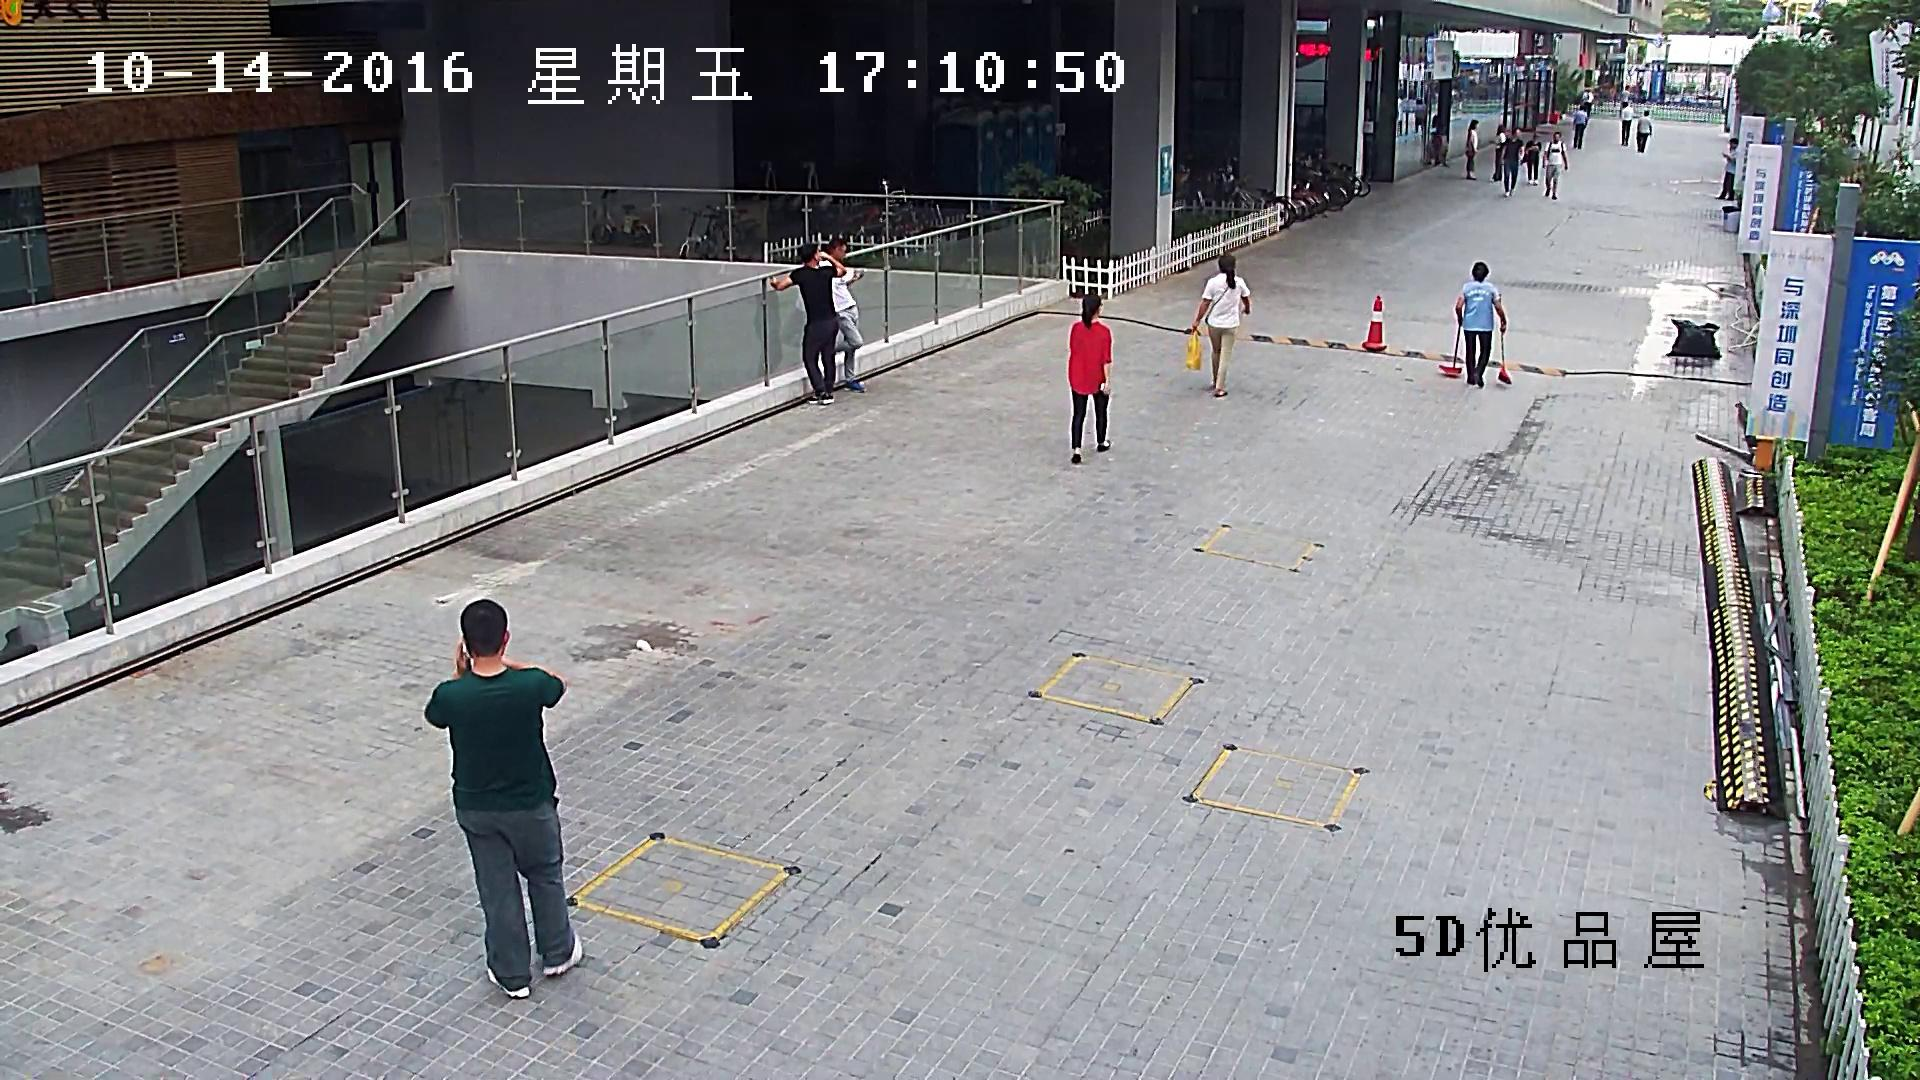person: (422, 597, 582, 998), (770, 244, 846, 403), (1438, 261, 1511, 388), (1185, 255, 1249, 396), (820, 238, 868, 392), (1068, 293, 1110, 463), (1455, 261, 1506, 387), (1495, 126, 1523, 198), (1542, 132, 1568, 200), (1716, 137, 1738, 201), (1522, 131, 1540, 184), (1487, 124, 1504, 182), (1464, 119, 1479, 180), (1844, 134, 1862, 182), (1636, 109, 1652, 153), (1572, 104, 1587, 149), (1619, 100, 1633, 146), (1581, 83, 1594, 124), (1618, 84, 1630, 121), (1413, 98, 1426, 135)
